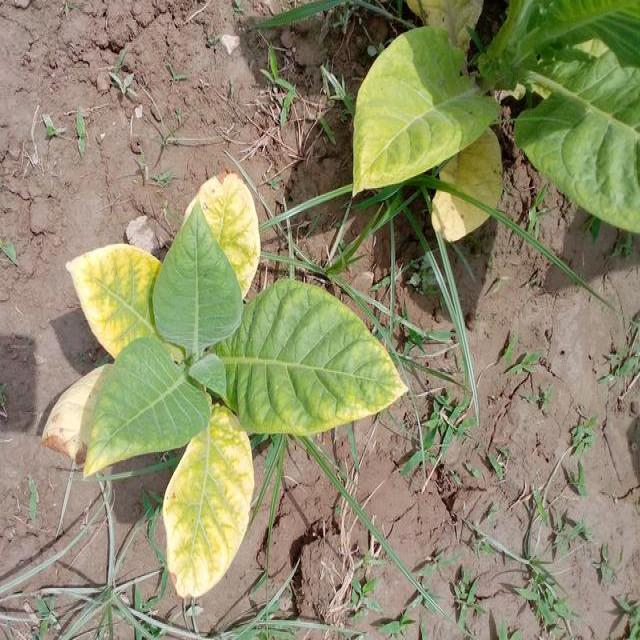crop: (51, 186, 398, 582), (346, 0, 640, 236)
